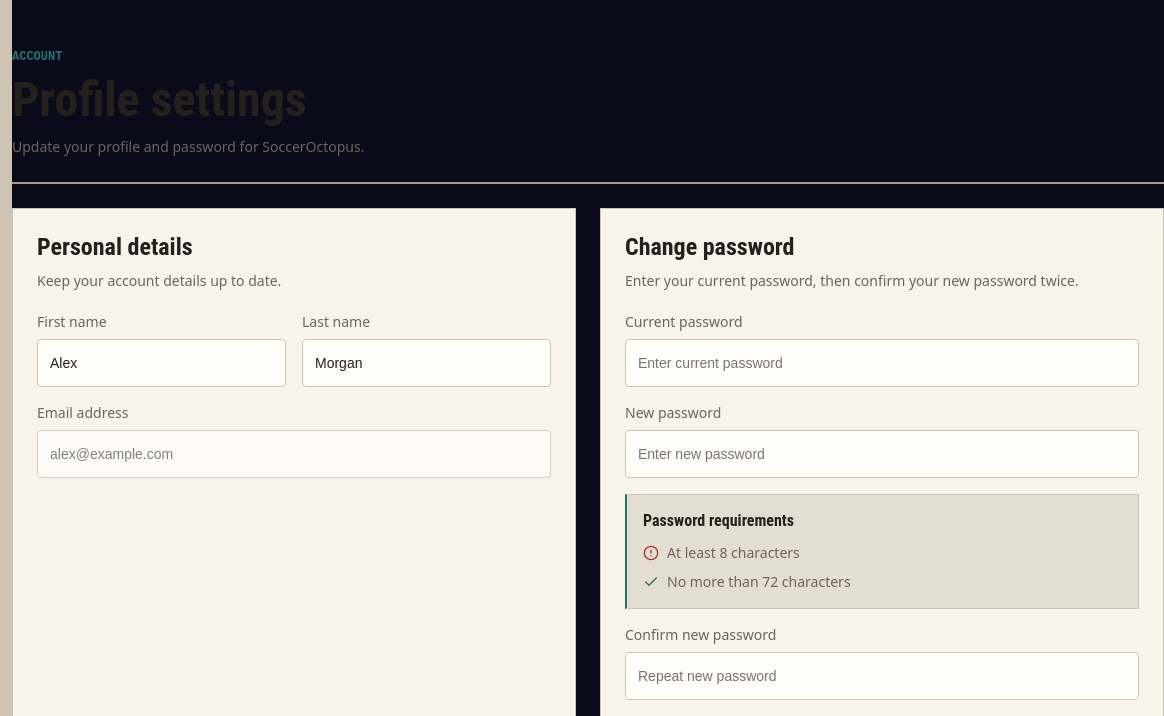
Test: ProfileView › keeps profile-update success truthful when the following reload fails
In the field labelled "First name": (162, 363) [37,339,286,387], type "Alexandra"
(page scrolled)
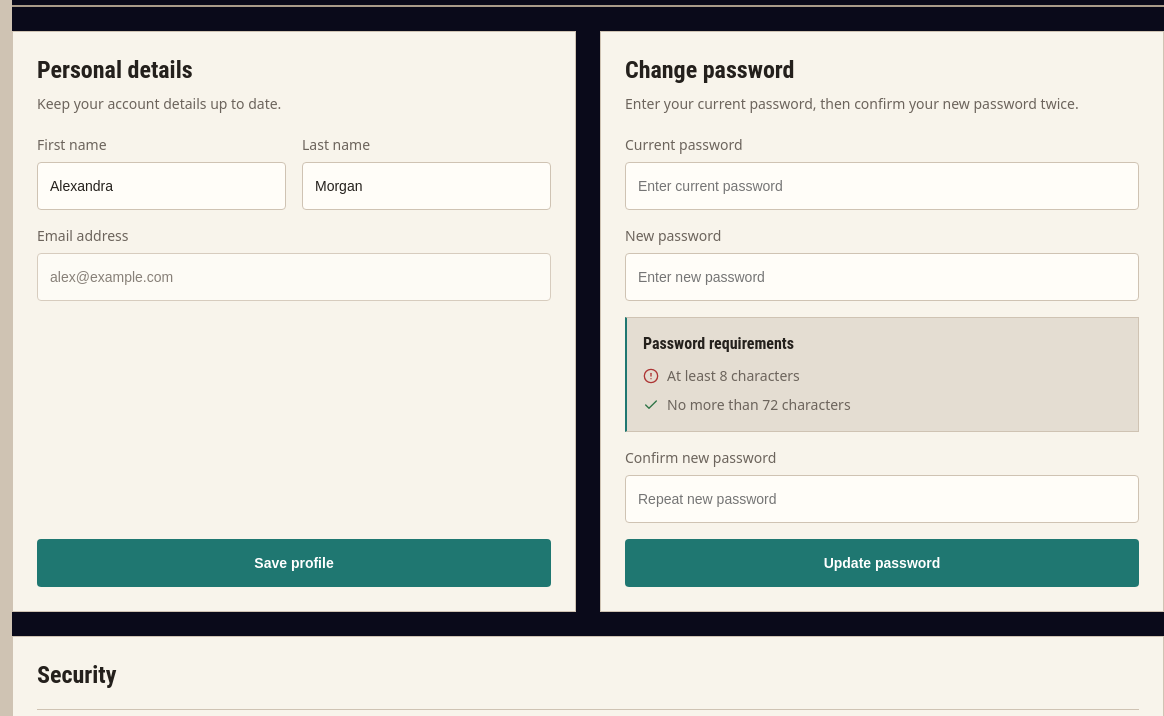
Submit the form "First name Last name Email address Save profile", box [37,135,551,587]
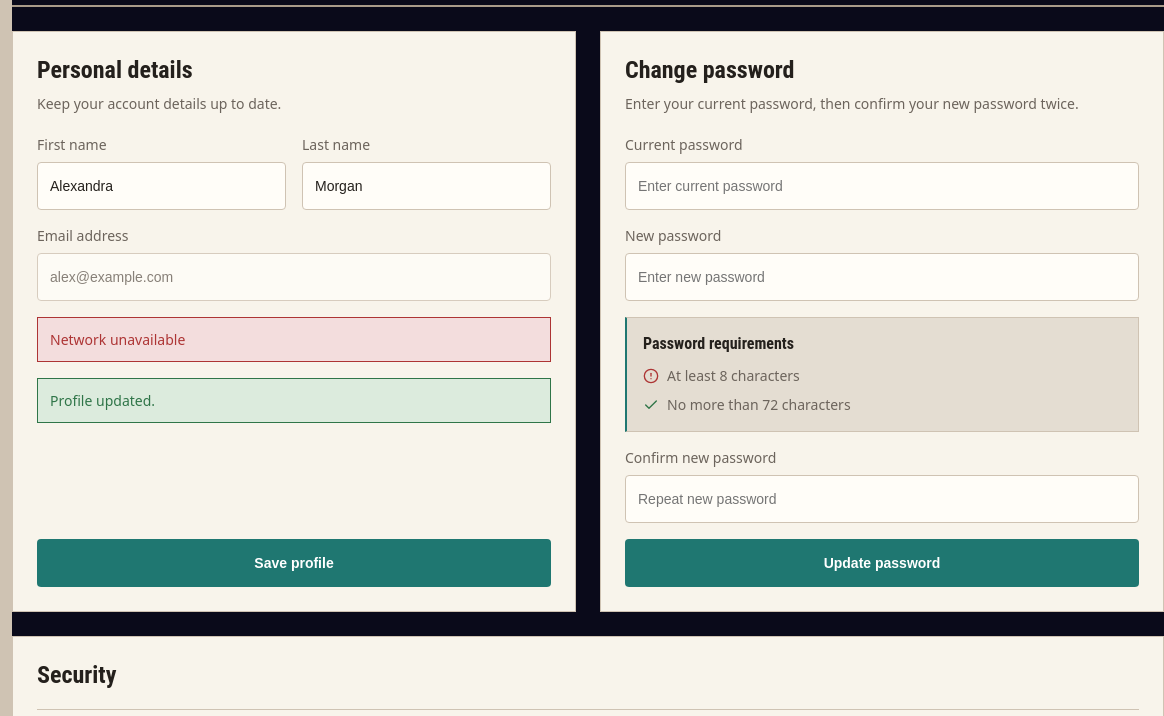
Expected: the text "Profile updated." is shown, [37,378,551,423]
Expected: the text "Network unavailable" is shown, [37,317,551,362]
